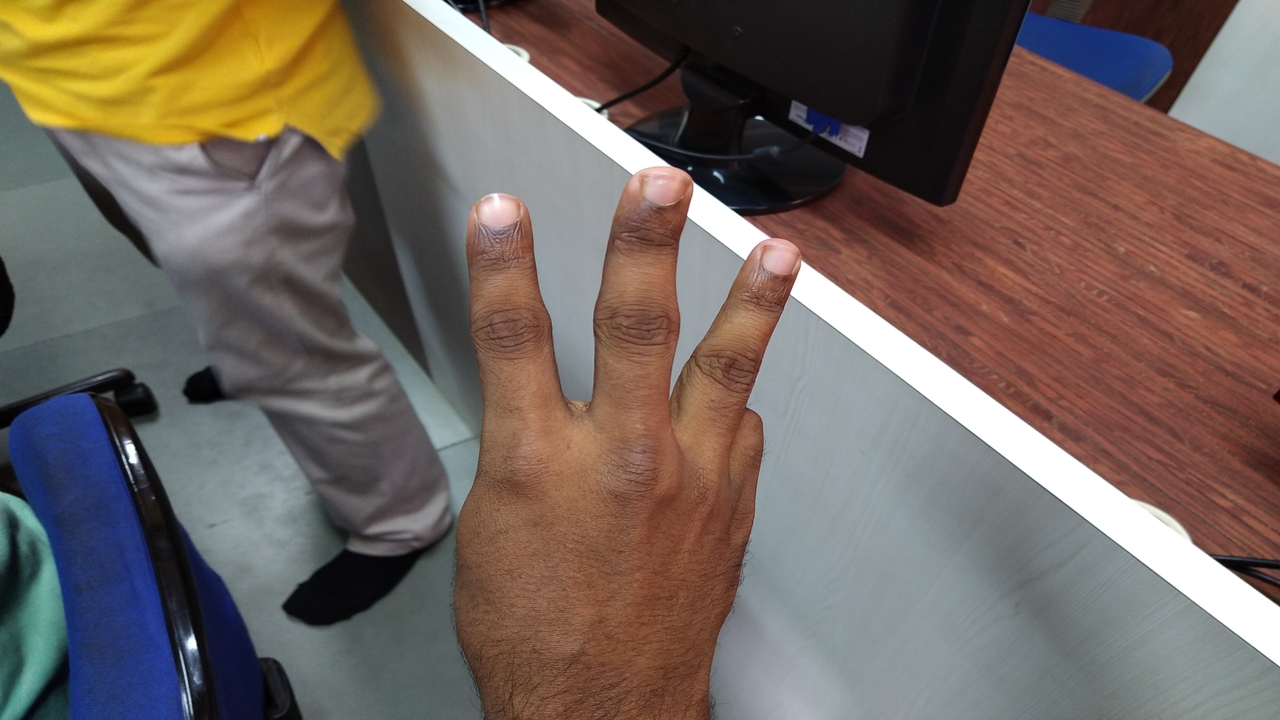fingertip: (608, 164, 694, 232), (456, 184, 536, 256), (742, 228, 816, 292)
